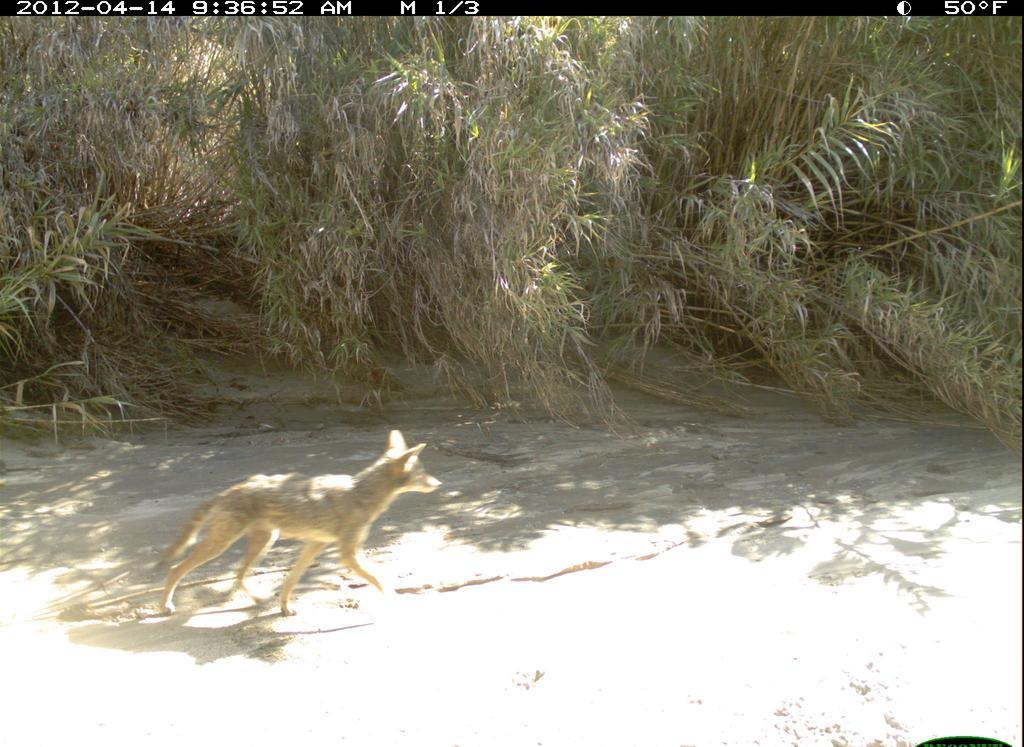coyote: (143, 419, 449, 635)
